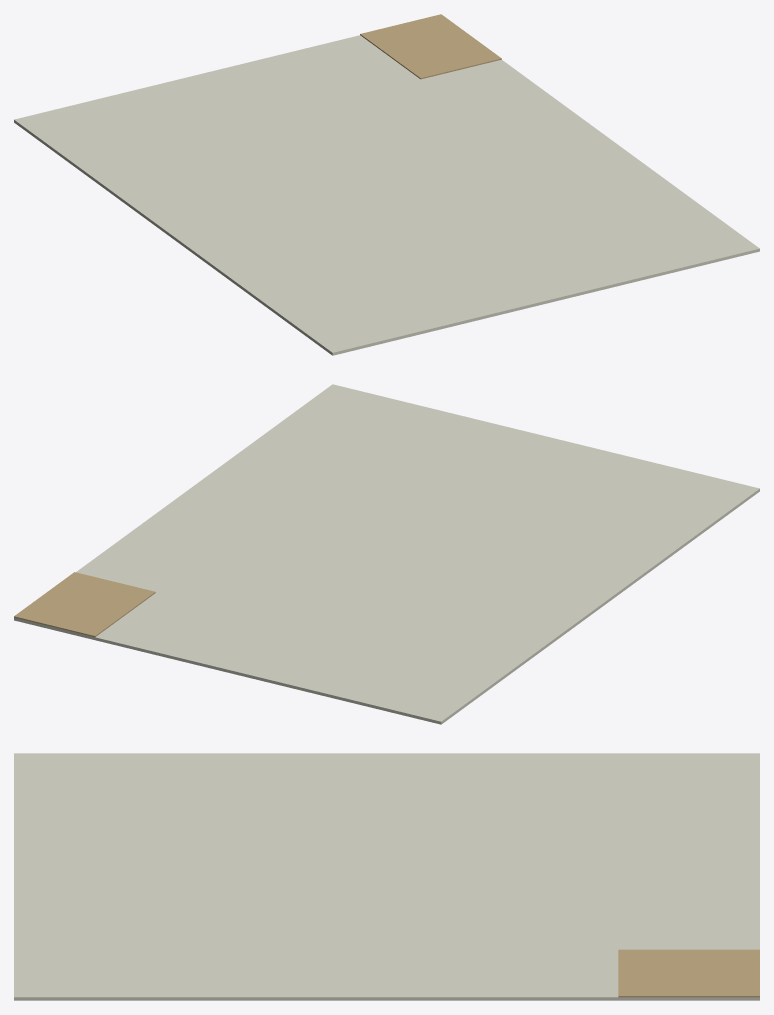
File: EVIDENCE_PAPER_LODs.fbx
3 views of the same model, one above another, from view 1: azimuth 30°, elevation 25°; view 2: azimuth 150°, elevation 25°; view 3: azimuth 270°, elevation 25° (orthographic). The views are drawn at different scales.
Visible parts, largest first — view 1: EVIDENCE_PAPER_LOD0; view 2: EVIDENCE_PAPER_LOD0; view 3: EVIDENCE_PAPER_LOD0.
Part boxes in pixels (x1,y1,x2,y2): EVIDENCE_PAPER_LOD0: [14, 14, 759, 355]; EVIDENCE_PAPER_LOD0: [14, 384, 759, 724]; EVIDENCE_PAPER_LOD0: [14, 753, 759, 1000].
Size of what is drawn, in the model's own units: 0.216 by 0.002 by 0.279.
